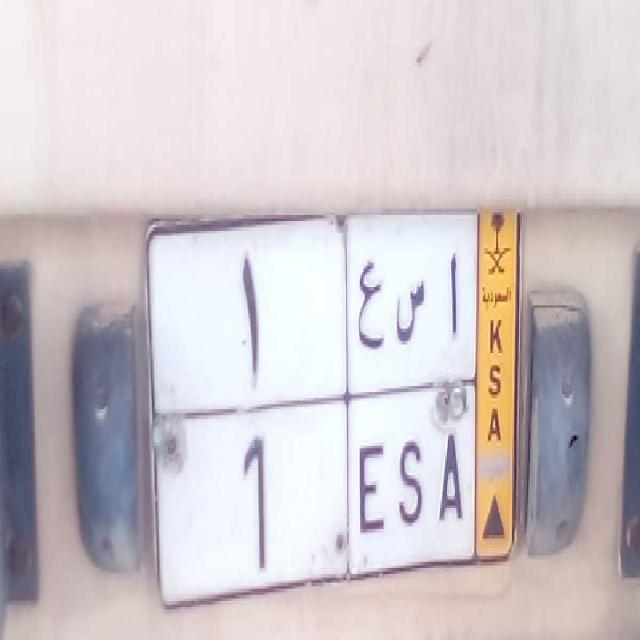license_plate: (158, 397, 476, 586)
